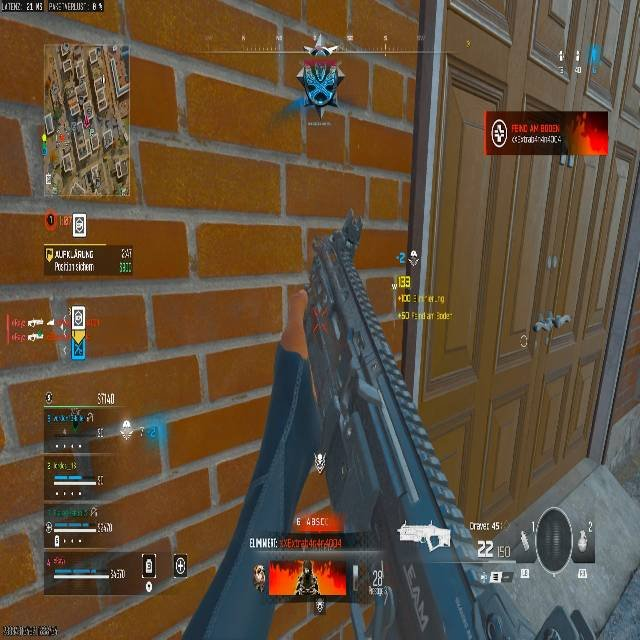player: (312, 215, 365, 339), (297, 38, 345, 121)
